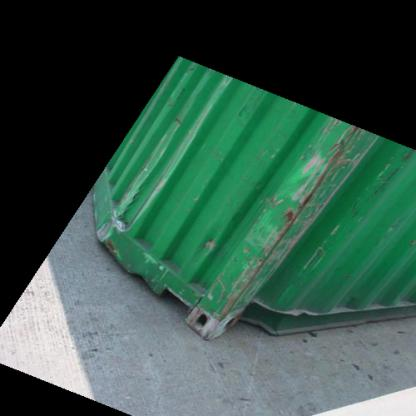Damage: (212, 132, 379, 325), (93, 159, 166, 248)
